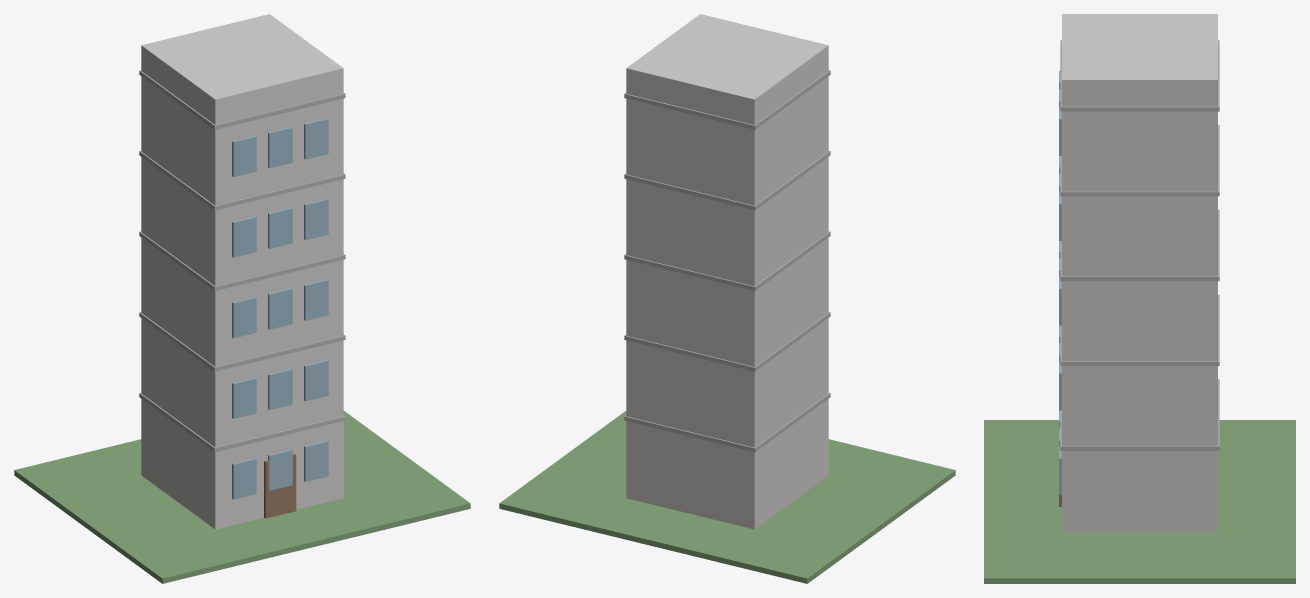
The model's file is apartamento.glb.
3 views of the same model, side by side, from view 1: azimuth 30°, elevation 25°; view 2: azimuth 150°, elevation 25°; view 3: azimuth 270°, elevation 25° (orthographic). The views are drawn at different scales.
Parts seen in each view (by area): view 1: geometry_0; view 2: geometry_0; view 3: geometry_0.
Boxes of the visible parts, x1,y1,x2,y2 form: geometry_0: (14, 14, 470, 583); geometry_0: (499, 14, 955, 583); geometry_0: (984, 14, 1295, 583).
Bounding box in the file's own units: 12 × 16.2 × 10.
